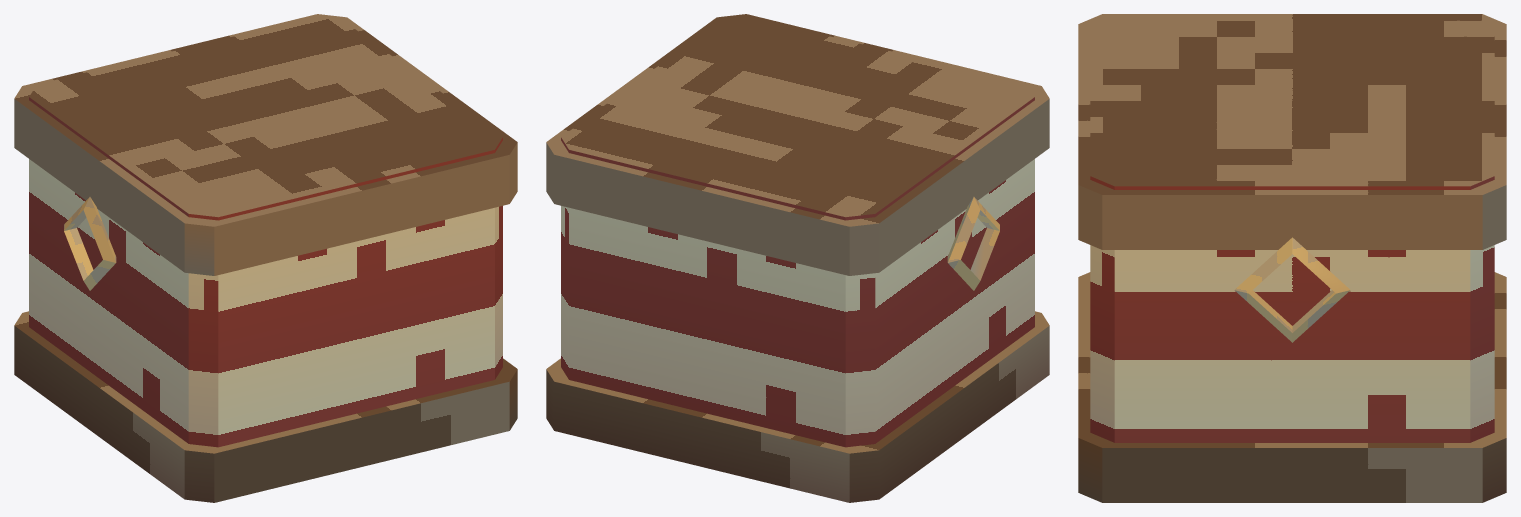
File: wprop.crate__powder.glb
3 renders of one model, left to right at view 1: azimuth 30°, elevation 25°; view 2: azimuth 150°, elevation 25°; view 3: azimuth 270°, elevation 25°, orthographic. The views are drawn at different scales.
Visible parts, largest first — view 1: kit_box, kit_edges, kit_handles; view 2: kit_box, kit_edges, kit_handles; view 3: kit_box, kit_edges, kit_handles.
Boxes of the visible parts, bbox=[...] form: kit_box: bbox=[29, 17, 502, 447]; kit_edges: bbox=[14, 14, 517, 502]; kit_handles: bbox=[64, 197, 116, 290]; kit_box: bbox=[561, 17, 1034, 447]; kit_edges: bbox=[546, 14, 1049, 502]; kit_handles: bbox=[947, 197, 999, 290]; kit_box: bbox=[1090, 15, 1494, 442]; kit_edges: bbox=[1078, 14, 1506, 502]; kit_handles: bbox=[1234, 237, 1350, 342].
Bounding box in the file's own units: 0.5808 × 0.425 × 0.53.
Materials: 3 (3 with a texture image).
